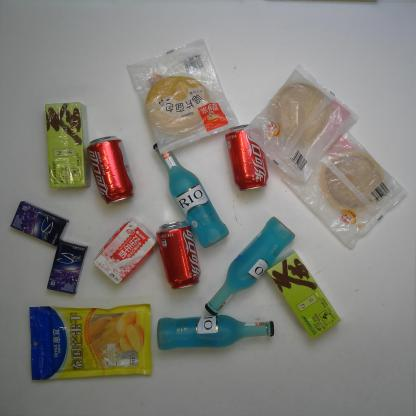Alcohol: (203, 215, 296, 316), (152, 140, 229, 250), (154, 314, 277, 352)
Dessert: (277, 128, 409, 250), (242, 63, 362, 185), (125, 36, 242, 156)
Dried Fruit: (27, 301, 156, 386)
Drink: (86, 135, 135, 207), (154, 220, 201, 291), (223, 123, 268, 193)
Gum: (9, 200, 71, 248), (44, 238, 87, 296)
Instant Drink: (268, 250, 342, 341), (44, 100, 92, 192)
Milk: (94, 218, 160, 286)
